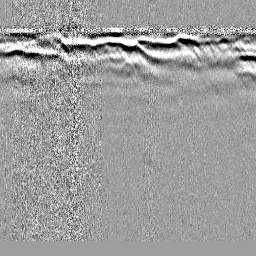cavity: (120, 58, 136, 73)
